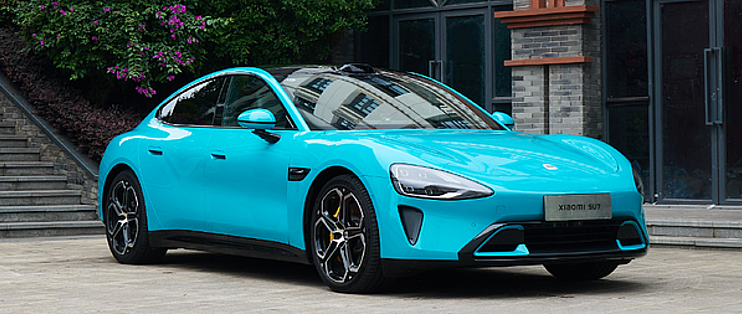su7: (95, 61, 656, 292)
